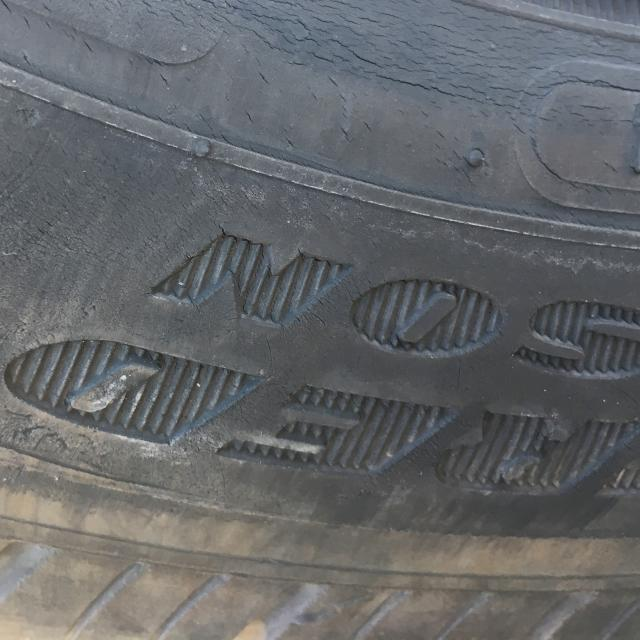Cracks: (0, 0, 639, 372), (0, 342, 318, 510)
